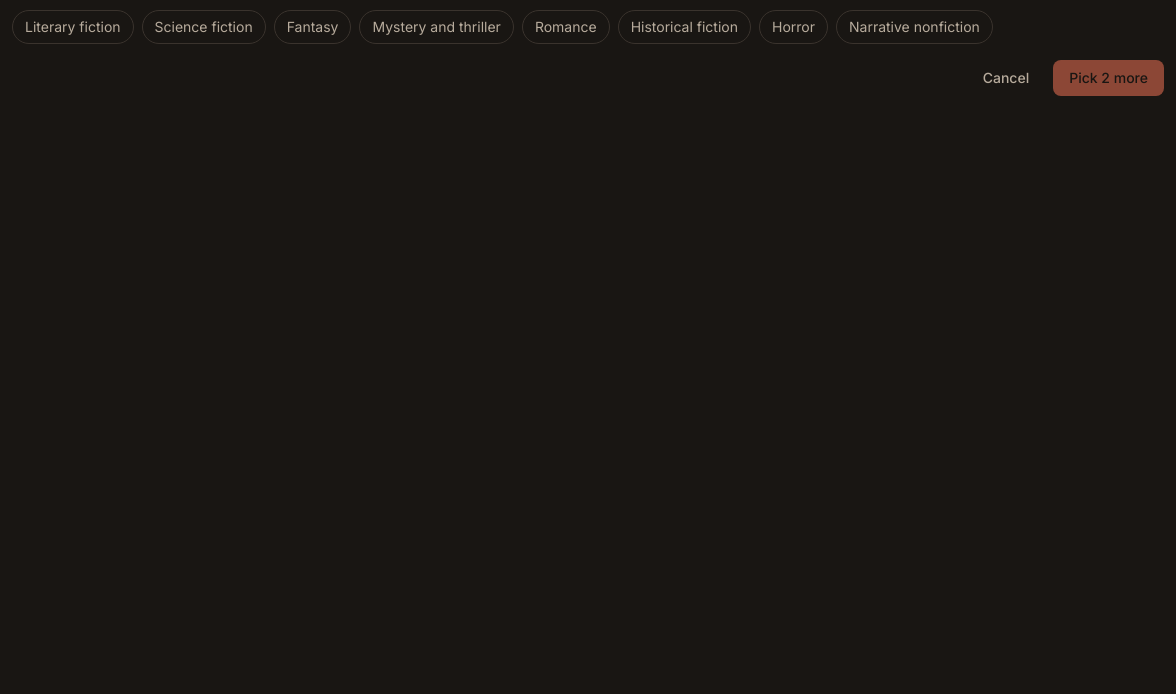
Test: QuickRate › resolves the curated picks strictly and shows only resolved, unshelved books
Expected: the button "Pick 2 more" is disabled, top-left (1053, 60), bottom-right (1164, 96)
Click the button "Science fiction" at [204, 27], box top-left (142, 10), bottom-right (266, 44)
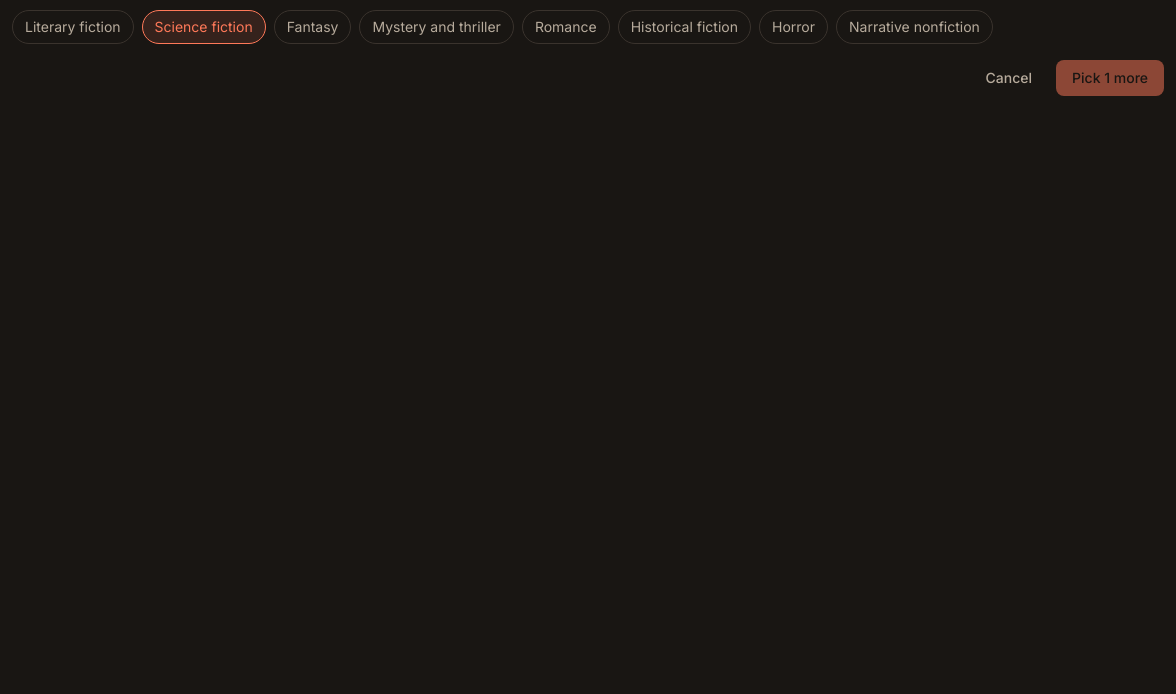
Click the button "Fantasy" at [313, 27], box top-left (274, 10), bottom-right (352, 44)
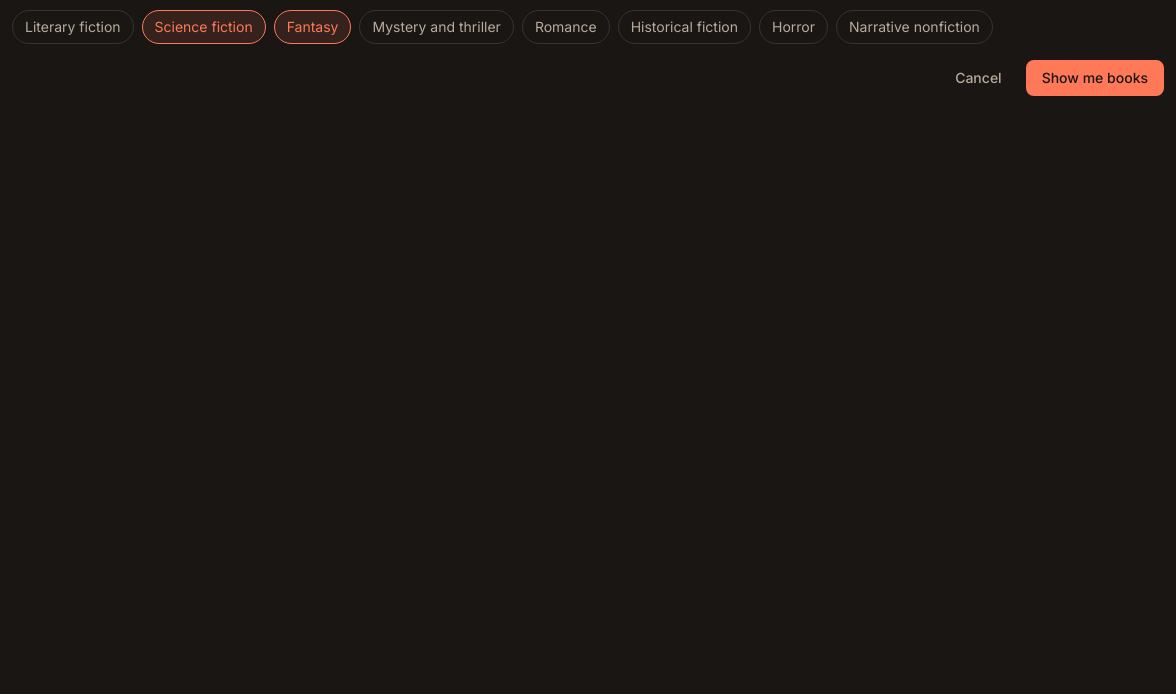
Click the button "Show me books" at [1095, 78], box top-left (1026, 60), bottom-right (1164, 96)
(page scrolled)
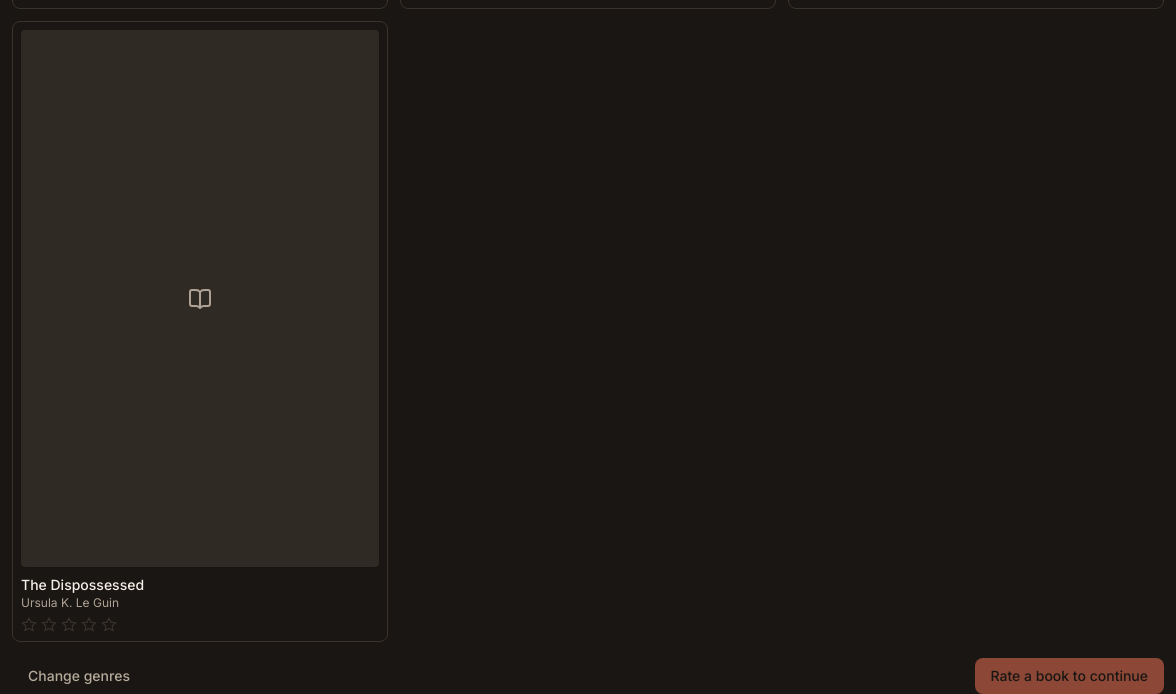
Expected: the text "The Dispossessed" is shown, top-left (21, 576), bottom-right (144, 593)
